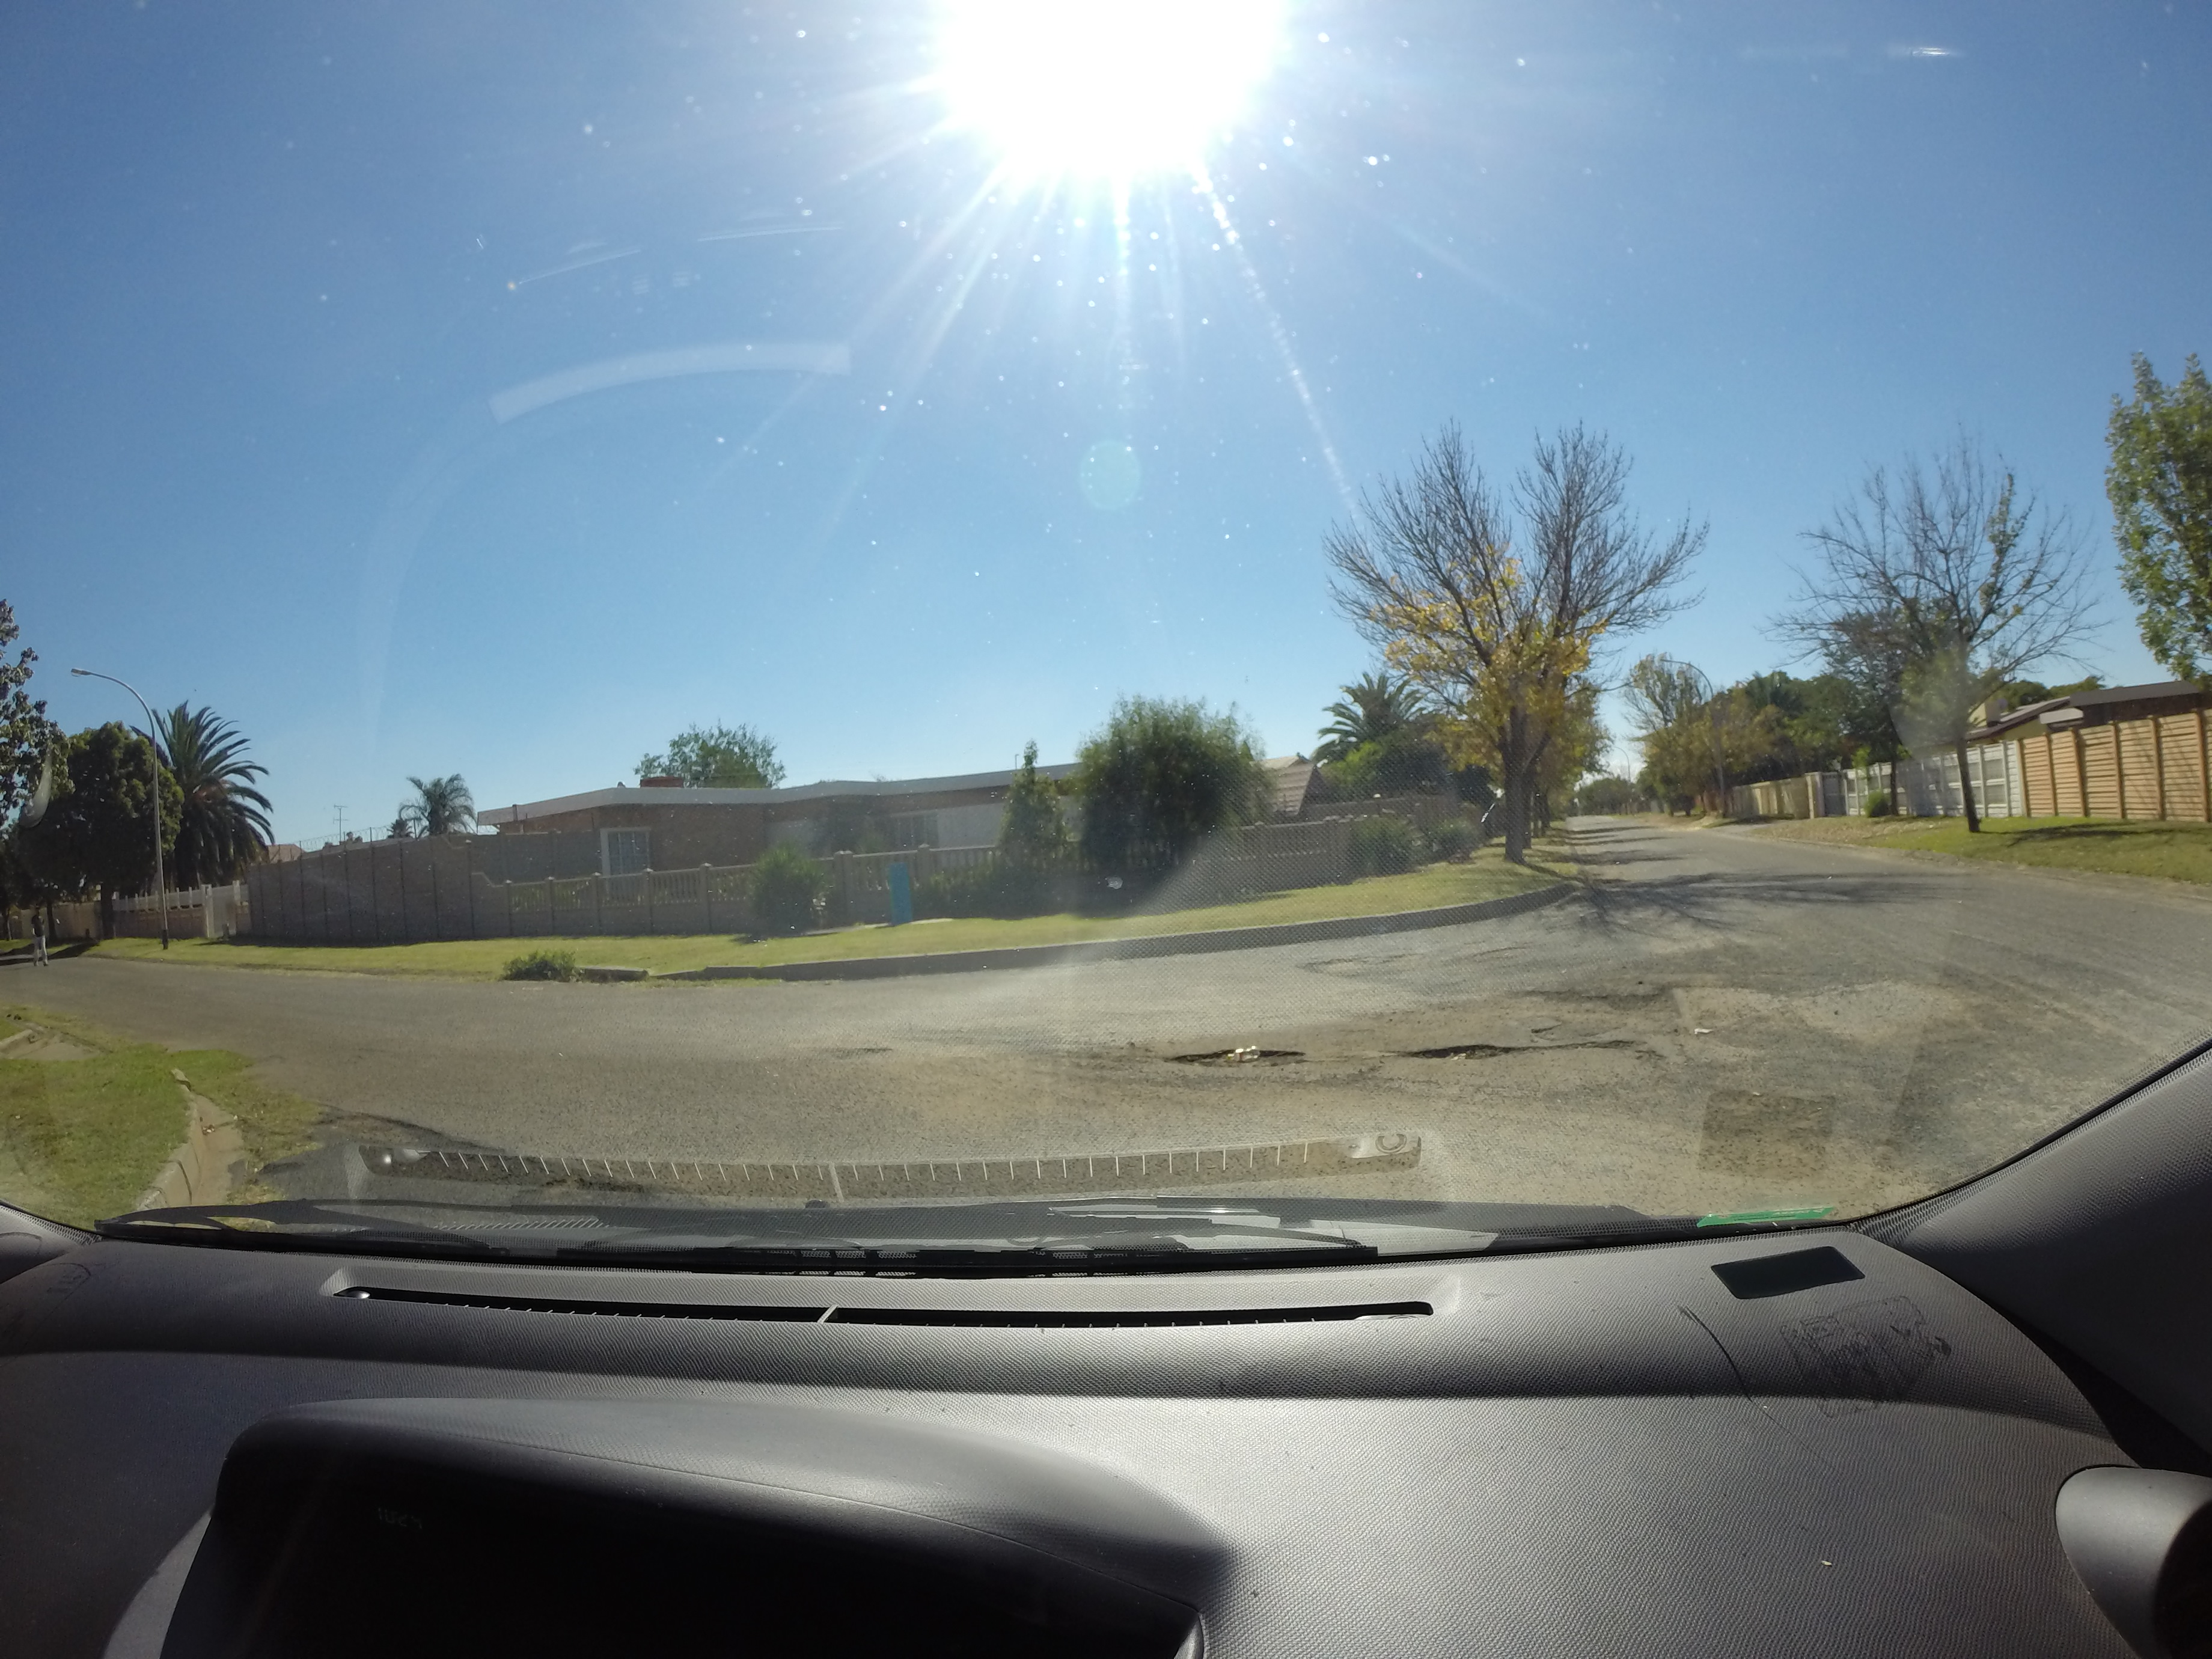pothole: (1334, 974, 1710, 1093), (1136, 1007, 1355, 1105)
